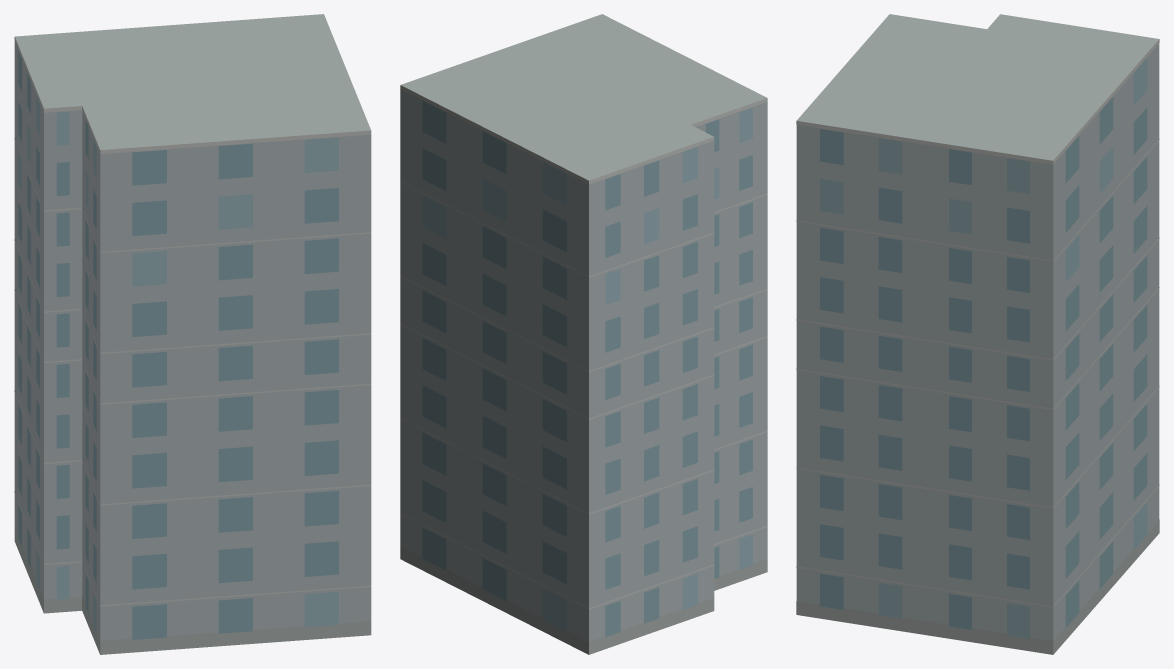
Rendered from residential-58a734a9-7df4-4557-8b16-1ff4ae332fb7.glb.
3 renders of one model, left to right at view 1: azimuth 30°, elevation 25°; view 2: azimuth 150°, elevation 25°; view 3: azimuth 270°, elevation 25°, orthographic. The views are drawn at different scales.
Parts seen in each view (by area): view 1: residential-58a734a9-7df4-4557-8b16-1ff4ae332fb7.tmp; view 2: residential-58a734a9-7df4-4557-8b16-1ff4ae332fb7.tmp; view 3: residential-58a734a9-7df4-4557-8b16-1ff4ae332fb7.tmp.
Part boxes in pixels (bbox=[...]): residential-58a734a9-7df4-4557-8b16-1ff4ae332fb7.tmp: bbox=[14, 14, 371, 654]; residential-58a734a9-7df4-4557-8b16-1ff4ae332fb7.tmp: bbox=[400, 14, 767, 654]; residential-58a734a9-7df4-4557-8b16-1ff4ae332fb7.tmp: bbox=[796, 14, 1159, 654].
Size of the model in its own units: 19.46 by 30.5 by 20.33.
